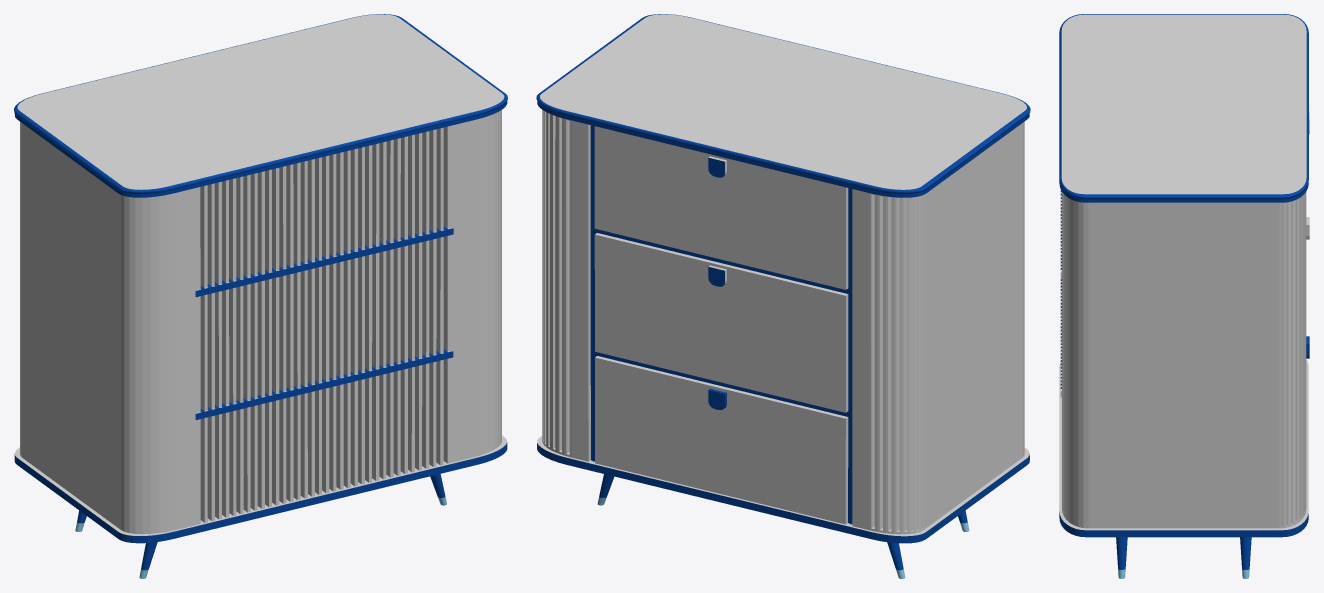
Rendered from white_table.fbx.
The picture shows the model from 3 angles, left to right: view 1: azimuth 30°, elevation 25°; view 2: azimuth 150°, elevation 25°; view 3: azimuth 270°, elevation 25°; orthographic projection. The views are drawn at different scales.
Parts seen in each view (by area): view 1: Cube; view 2: Cube; view 3: Cube.
Part boxes in pixels (x1=…): Cube: x1=14, y1=14, x2=507, y2=578; Cube: x1=536, y1=14, x2=1030, y2=578; Cube: x1=1059, y1=14, x2=1309, y2=578.
Bounding box in the file's own units: 78.16 × 80.06 × 45.23.
